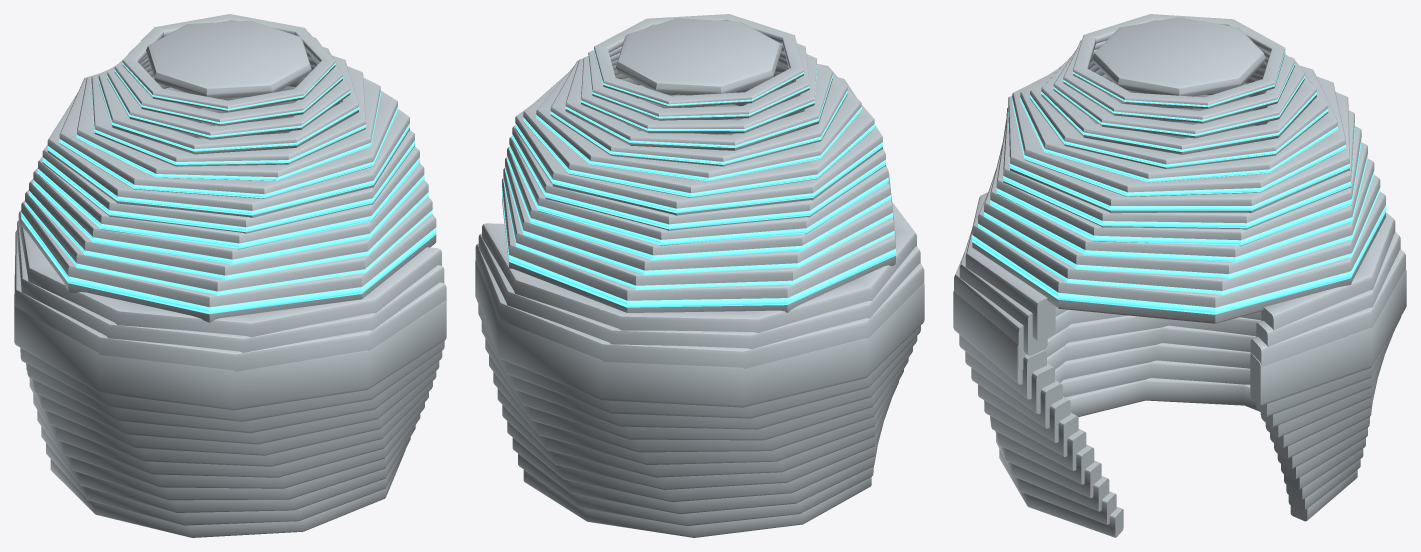
The model's file is Pod.glb.
3 renders of one model, left to right at view 1: azimuth 30°, elevation 25°; view 2: azimuth 150°, elevation 25°; view 3: azimuth 270°, elevation 25°, orthographic.
Parts seen in each view (by area): view 1: Tube 11 (×3), Tube 0 (×3), Tube 6 (×3), Tube 12 (×3), Tube 13 (×3), Tube 7 (×3), Tube 4 (×3), Tube 5 (×3), Tube 3 (×3), Tube 2 (×3), Tube 1 (×3), Tube 8 (×3) (+4 smaller); view 2: Tube 11 (×3), Tube 0 (×3), Tube 12 (×3), Tube 6 (×3), Tube 13 (×3), Tube 7 (×3), Tube 5 (×3), Tube 4 (×3), Tube 3 (×3), Tube 2 (×3), Tube 1 (×3), Tube 8 (×3) (+4 smaller); view 3: Tube 0 (×3), Tube 11 (×3), Tube 3 (×3), Tube 2 (×3), Tube 1 (×3), Tube 4 (×3), Tube 6 (×3), Cylinder, Tube 7 (×3), Tube 5 (×3), Tube 13 (×3), Tube 12 (×3) (+4 smaller).
Boxes of the visible parts, box(x1,y1,x2,y2) form: Tube 11 (×3): box(14, 47, 446, 410); Tube 0 (×3): box(21, 200, 436, 537); Tube 6 (×3): box(26, 77, 432, 466); Tube 12 (×3): box(15, 37, 446, 371); Tube 13 (×3): box(17, 14, 444, 352); Tube 7 (×3): box(37, 75, 436, 455); Tube 4 (×3): box(33, 97, 424, 488); Tube 5 (×3): box(29, 86, 428, 477); Tube 3 (×3): box(33, 108, 424, 500); Tube 2 (×3): box(29, 122, 428, 512); Tube 1 (×3): box(25, 137, 432, 525); Tube 8 (×3): box(32, 71, 439, 444); Tube 11 (×3): box(475, 51, 924, 407); Tube 0 (×3): box(502, 173, 895, 537); Tube 12 (×3): box(475, 43, 924, 368); Tube 6 (×3): box(493, 77, 903, 464); Tube 13 (×3): box(478, 14, 920, 349); Tube 7 (×3): box(489, 64, 908, 452); Tube 5 (×3): box(497, 85, 898, 477); Tube 4 (×3): box(502, 94, 891, 489); Tube 3 (×3): box(507, 104, 890, 501); Tube 2 (×3): box(505, 118, 892, 514); Tube 1 (×3): box(503, 133, 894, 525); Tube 8 (×3): box(485, 64, 912, 440); Tube 0 (×3): box(972, 192, 1386, 537); Tube 11 (×3): box(953, 49, 1406, 406); Tube 3 (×3): box(990, 107, 1367, 498); Tube 2 (×3): box(984, 121, 1374, 511); Tube 1 (×3): box(978, 134, 1380, 524); Tube 4 (×3): box(995, 94, 1367, 484); Tube 6 (×3): box(984, 74, 1372, 458); Cylinder: box(1092, 17, 1265, 96); Tube 7 (×3): box(978, 69, 1377, 448); Tube 5 (×3): box(990, 82, 1369, 470); Tube 13 (×3): box(959, 14, 1400, 355); Tube 12 (×3): box(954, 40, 1405, 370).
Size of the model in its own units: 1896 by 1996 by 1970.
